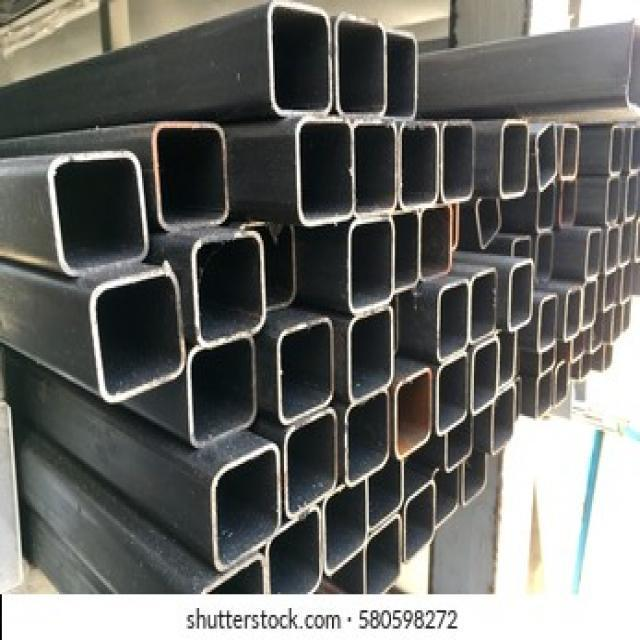pipe: (92, 268, 186, 402), (52, 151, 152, 276), (215, 444, 281, 576), (195, 233, 267, 345), (154, 125, 229, 223), (192, 338, 255, 445), (271, 4, 332, 113), (298, 121, 354, 223), (279, 316, 332, 421), (287, 411, 336, 515), (338, 15, 386, 115), (350, 307, 395, 406), (269, 508, 322, 592), (347, 390, 390, 487), (324, 479, 367, 574), (351, 218, 393, 309), (356, 123, 397, 215), (250, 226, 295, 308), (404, 124, 438, 208), (366, 515, 400, 595), (437, 352, 469, 435), (368, 458, 403, 533), (405, 479, 436, 562), (400, 371, 430, 456), (443, 121, 474, 201), (440, 279, 469, 364), (386, 33, 416, 115), (422, 206, 452, 280), (501, 122, 529, 197), (473, 338, 499, 414), (397, 209, 420, 292), (471, 271, 496, 343), (491, 388, 515, 453), (511, 260, 533, 330), (448, 417, 474, 473), (538, 122, 557, 190), (439, 466, 459, 528), (463, 456, 487, 506), (479, 201, 503, 251), (539, 296, 559, 351), (561, 126, 578, 179), (536, 233, 553, 282), (603, 226, 620, 273), (539, 182, 555, 230), (536, 372, 553, 417), (560, 183, 577, 227), (605, 180, 620, 226), (502, 334, 515, 387), (568, 288, 581, 341), (610, 129, 623, 176), (603, 270, 617, 312), (626, 174, 638, 222), (584, 283, 596, 329), (555, 363, 568, 405), (628, 125, 639, 173), (587, 231, 598, 276), (622, 263, 633, 300), (571, 331, 585, 360), (542, 345, 557, 372), (592, 316, 603, 352), (622, 225, 632, 264), (613, 305, 623, 342), (581, 355, 595, 380), (514, 238, 532, 257), (604, 346, 612, 371)
